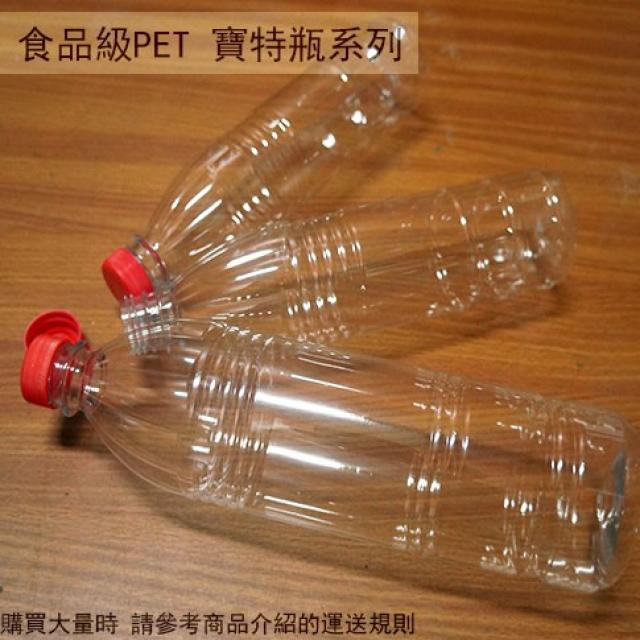plastic: (22, 330, 631, 592), (110, 52, 576, 324)
